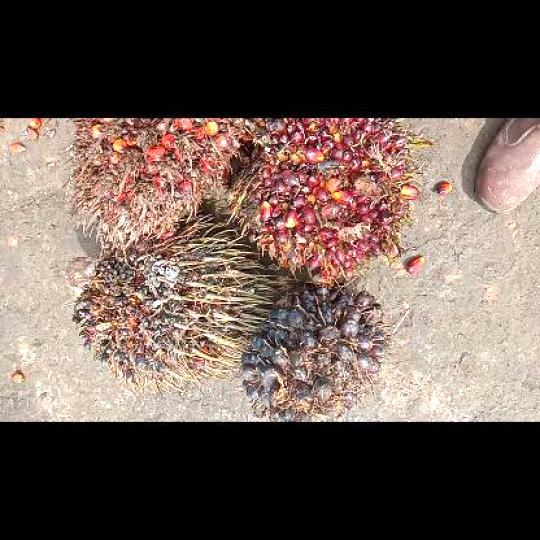masak: (228, 117, 418, 285)
terlalu masak: (71, 118, 243, 245)
